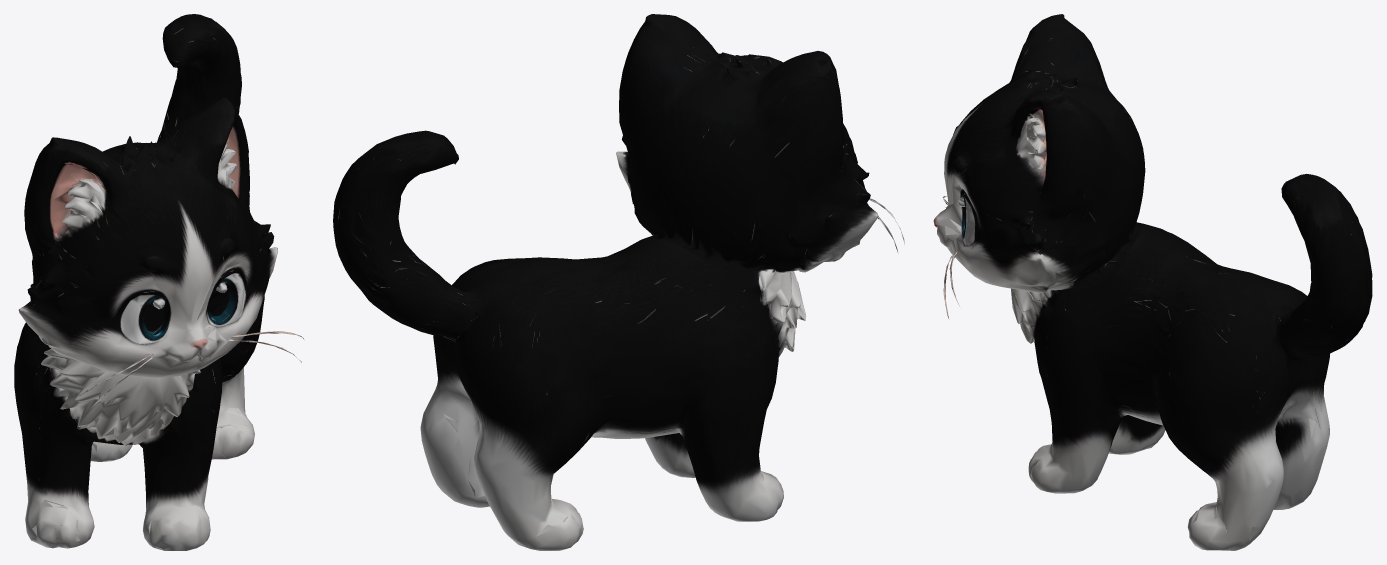
File: chibi_tuxedo_source.fbx
3 renders of one model, left to right at view 1: azimuth 30°, elevation 25°; view 2: azimuth 150°, elevation 25°; view 3: azimuth 270°, elevation 25°, orthographic. The views are drawn at different scales.
Visible parts, largest first — view 1: char1; view 2: char1; view 3: char1.
Boxes of the visible parts, <box> form: char1: <box>14,14,303,550</box>; char1: <box>333,14,904,550</box>; char1: <box>933,14,1372,550</box>.
Bounding box in the file's own units: 182 × 200 × 193.
Materials: 1 (1 with a texture image).
